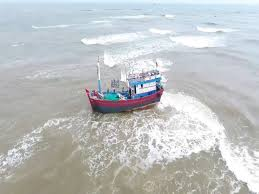tau_dansu: (83, 67, 168, 107)
